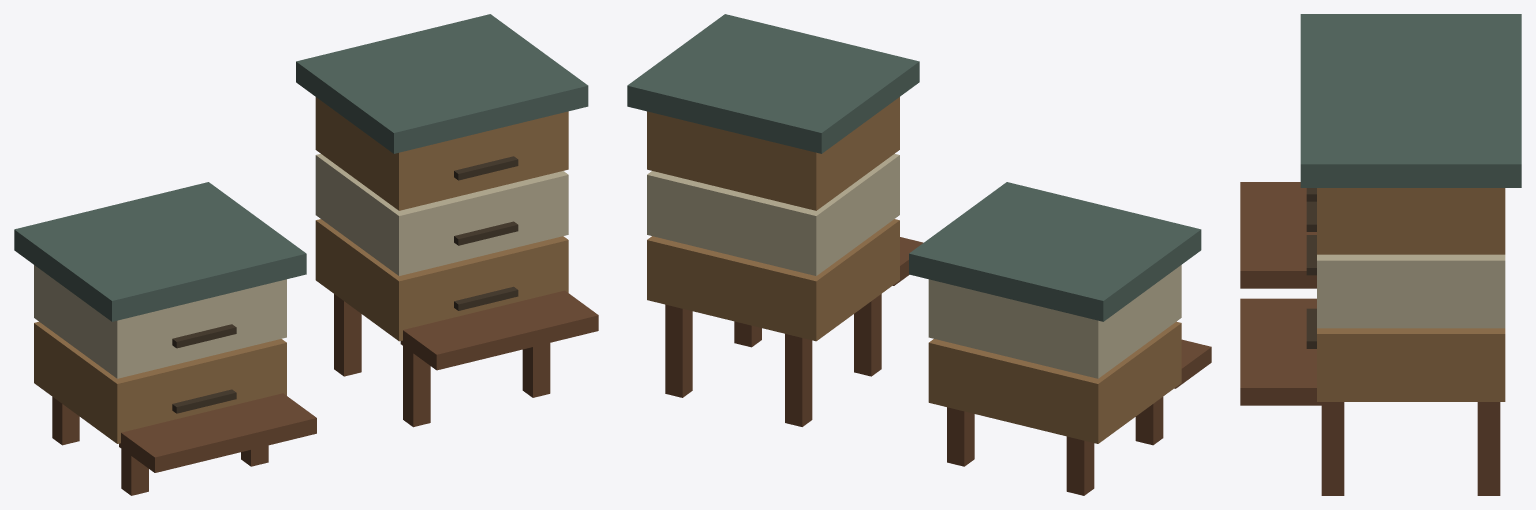
The model's file is Prop_Daily_BeehiveStands_001_LOD1.glb.
The picture shows the model from 3 angles, left to right: view 1: azimuth 30°, elevation 25°; view 2: azimuth 150°, elevation 25°; view 3: azimuth 270°, elevation 25°; orthographic projection. The views are drawn at different scales.
Parts seen in each view (by area): view 1: Prop_Daily_BeehiveStands_001_LOD1; view 2: Prop_Daily_BeehiveStands_001_LOD1; view 3: Prop_Daily_BeehiveStands_001_LOD1.
Part boxes in pixels (bbox=[...]): Prop_Daily_BeehiveStands_001_LOD1: bbox=[14, 14, 598, 495]; Prop_Daily_BeehiveStands_001_LOD1: bbox=[627, 14, 1211, 495]; Prop_Daily_BeehiveStands_001_LOD1: bbox=[1240, 14, 1521, 495].
Bounding box in the file's own units: 1.91 × 1.18 × 0.865.
